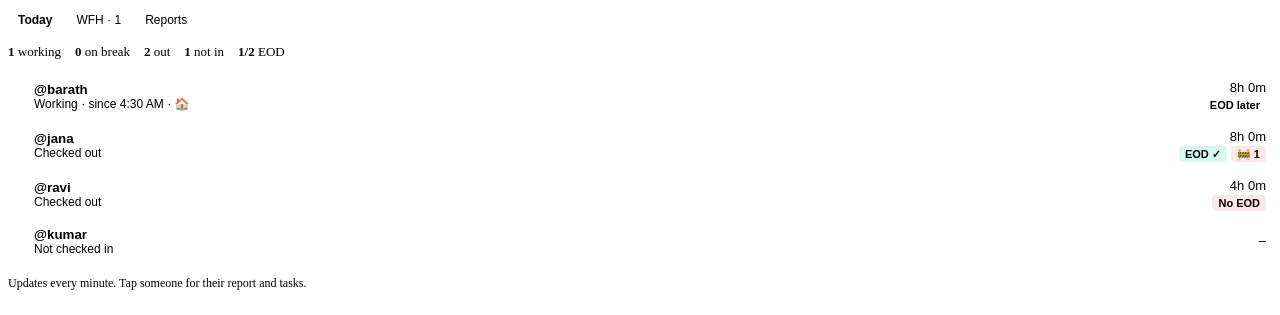
Test: reports: week / month table, ⚠️ short, CSV export to DMs
This screenshot has width=1280, height=315.
Click the tab "Reports": coordinates (166, 20) [135,8,197,32]
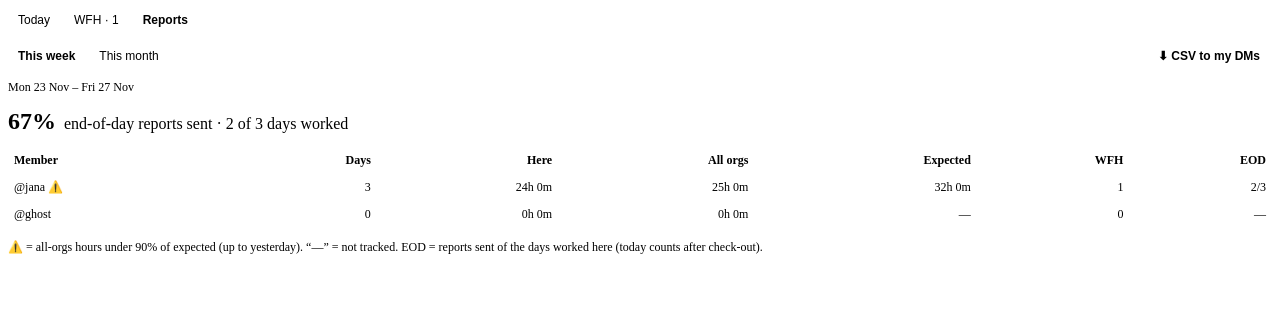
expect the row "@jana ⚠️ 3 24h 0m 25h 0m 32h 0m 1 2/3" is shown: met, box [8,174,1272,201]
expect the row "@ghost 0 0h 0m 0h 0m — 0 —" is shown: met, box [8,201,1272,228]
expect the text "67%" is shown: met, box [8,107,56,135]
Click the tab "This month": coordinates (129, 56) [89,44,169,68]
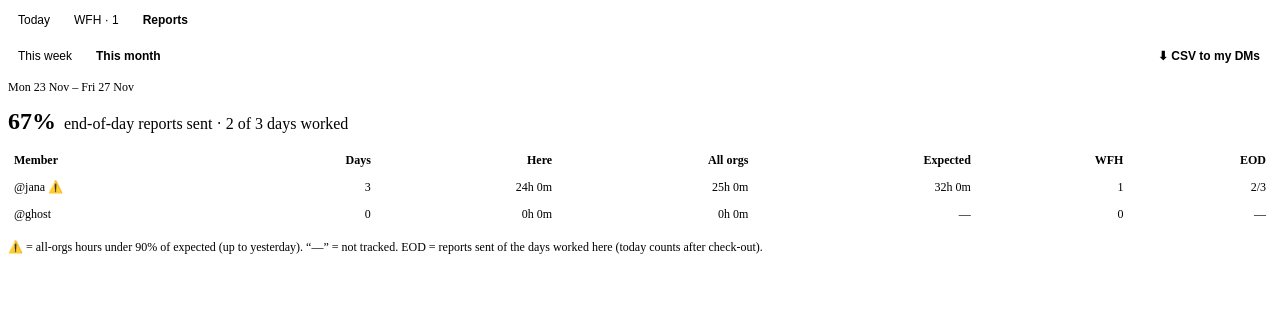
Click the button "⬇ CSV to my DMs": coordinates (1209, 56) [1146,44,1272,68]
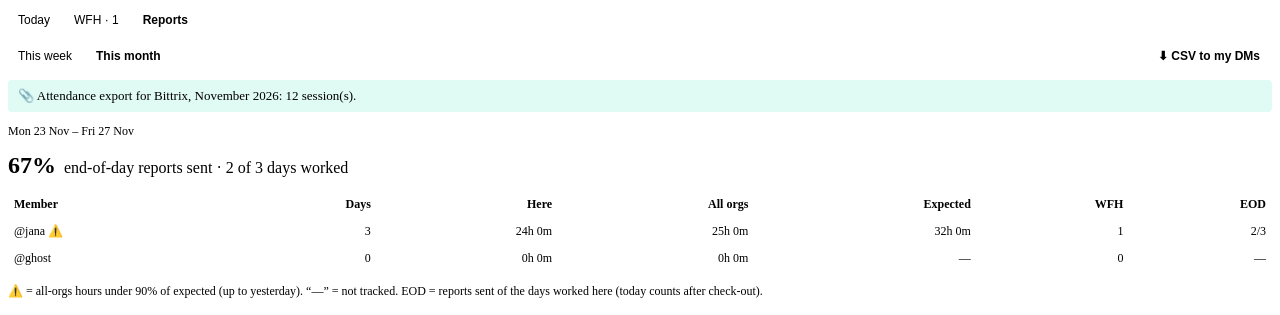
expect the message shows "Attendance export for Bittrix": met, box [18,88,356,103]
